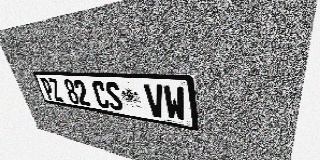2: (73, 80, 91, 106)
8: (63, 79, 80, 104)
C: (91, 81, 111, 109)
P: (40, 78, 56, 100)
S: (104, 81, 124, 112)
V: (143, 84, 167, 119)
W: (163, 85, 187, 122)
Z: (48, 78, 64, 102)
